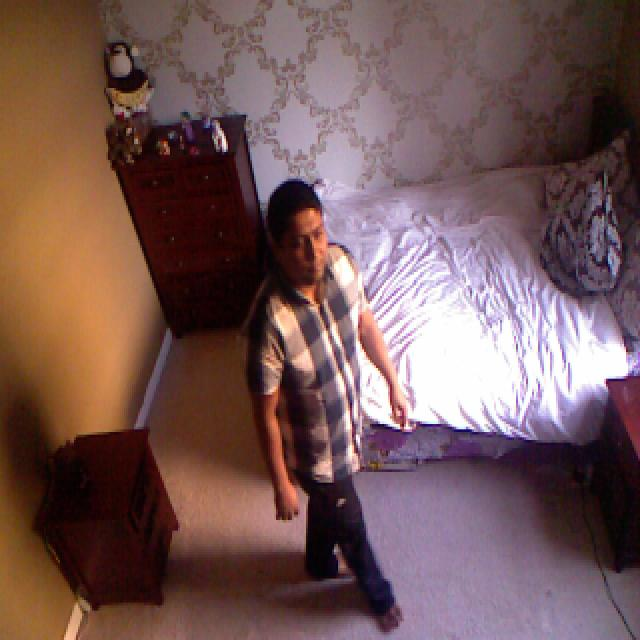standing: (240, 180, 385, 628)
